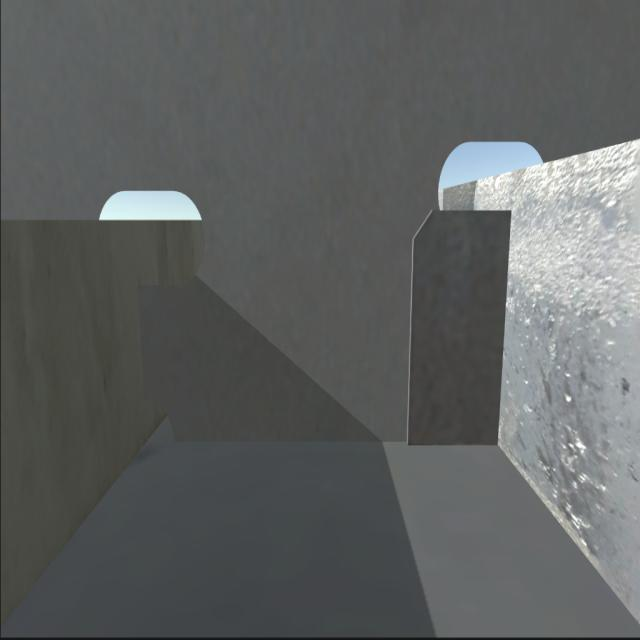fillet_hole: (144, 404, 174, 450)
fillet_yong_jeop_jang: (174, 434, 498, 450)
longi_yong_jeop_jang: (491, 201, 506, 454), (136, 287, 152, 406)
plate_CP03: (404, 209, 506, 446)
